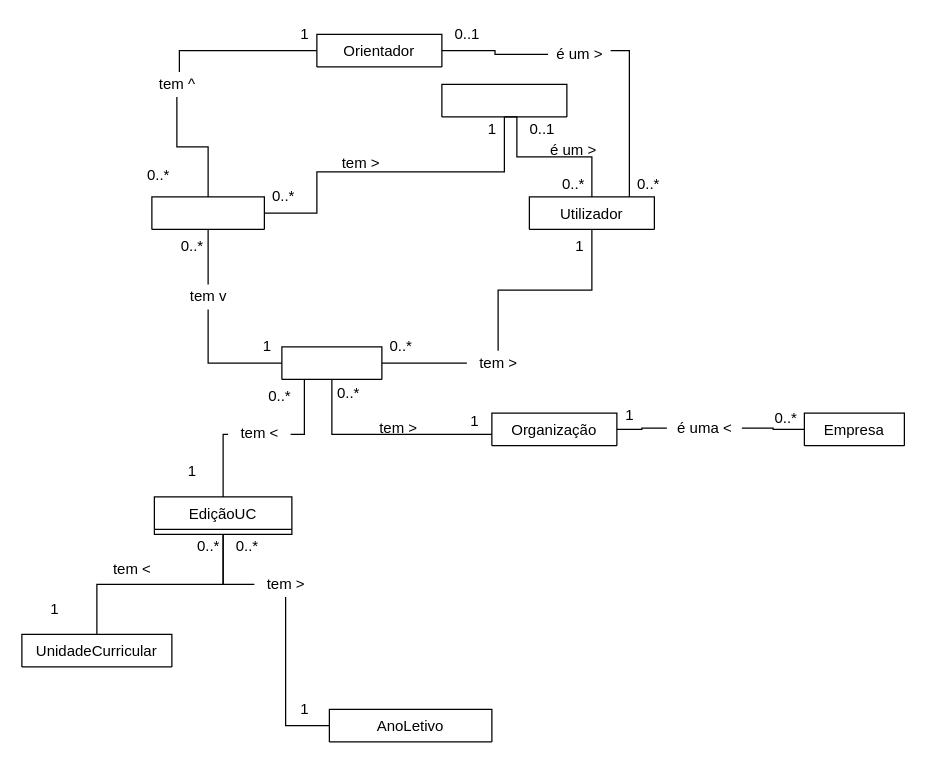
Some shapes in this 926 by 764 pixel diagram are drawn without their labels. Each missing label, with the box of its shape:
Estudante: (441, 83, 567, 117)
Projeto: (151, 196, 264, 229)
Proposta: (281, 346, 382, 379)
